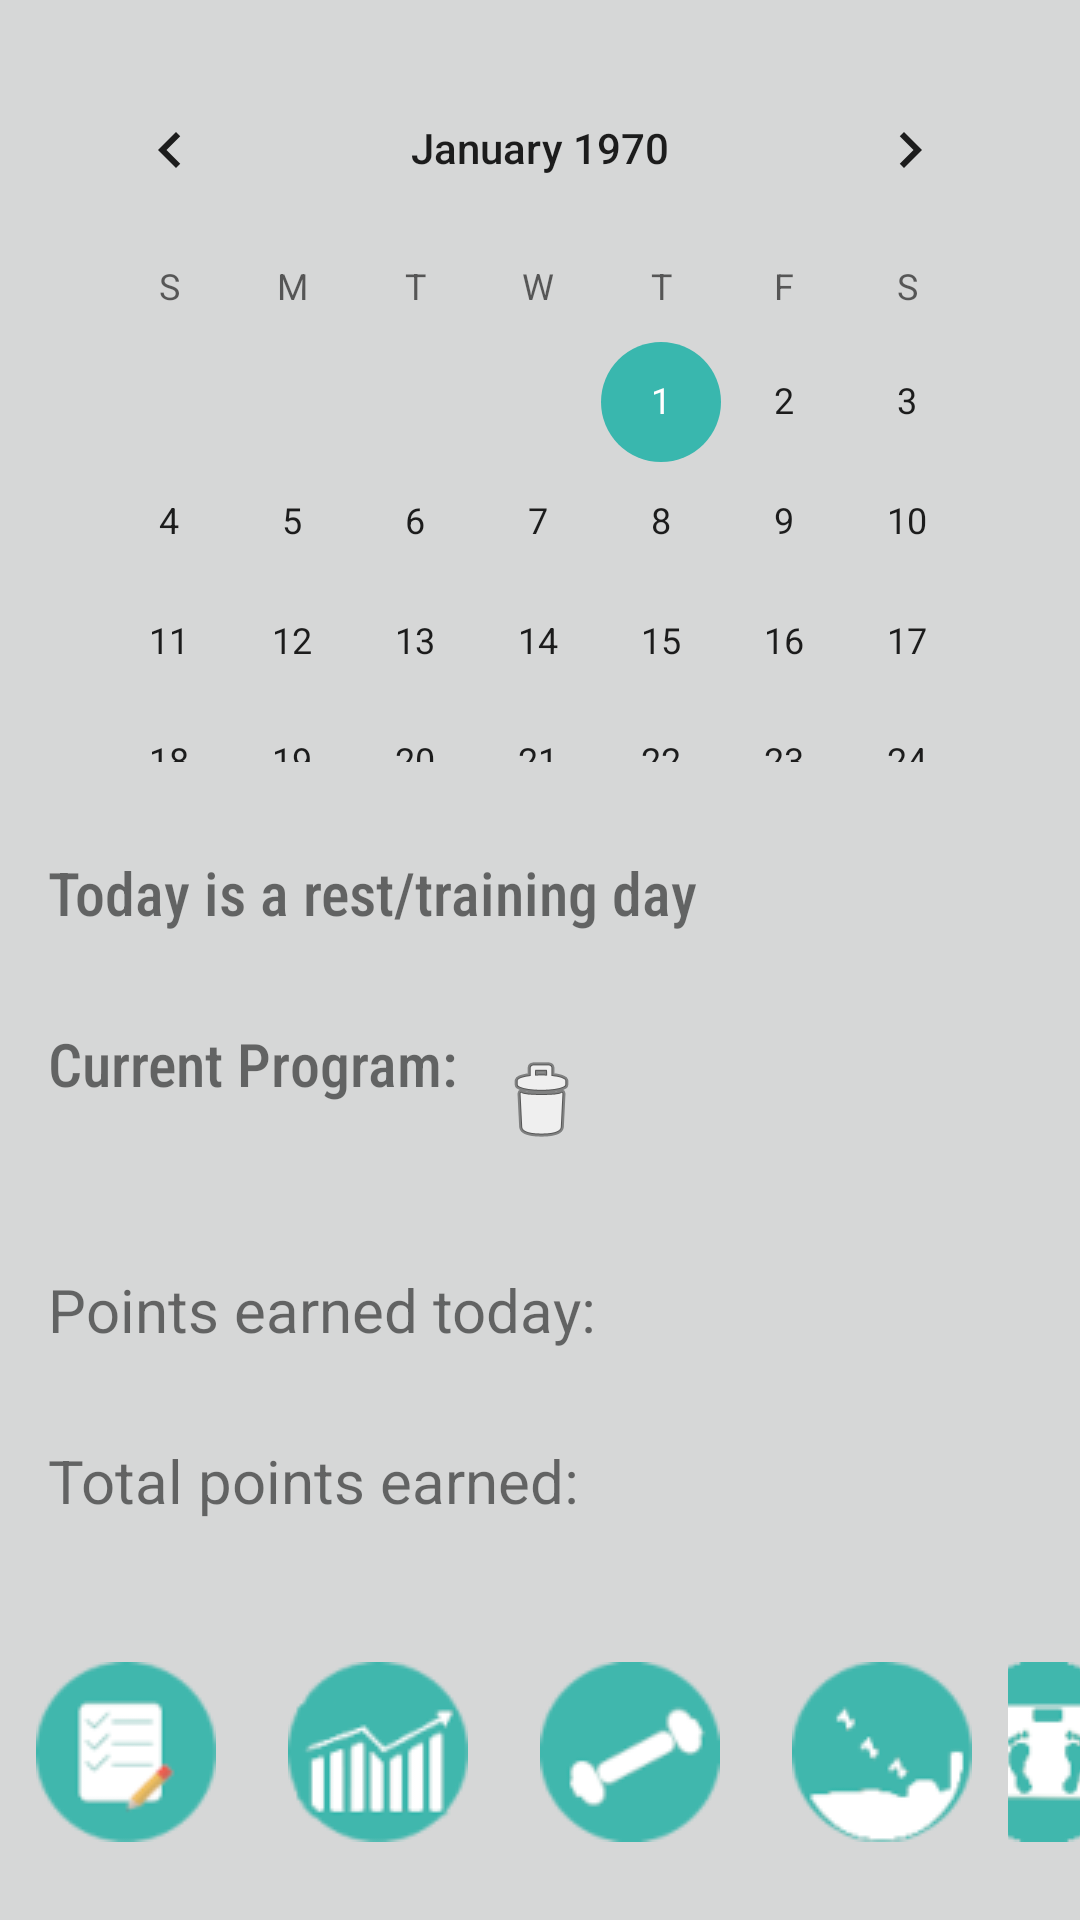

Screen size 1080x1920. Icon name, then its box in pixels as [x1, y1, x2, y2]:
delete: [514, 1062, 569, 1137]
imgbutton plan: [36, 1662, 216, 1842]
imgbutton progress: [288, 1662, 468, 1842]
imgbutton sleep: [792, 1662, 972, 1842]
imgbutton weight: [1008, 1662, 1080, 1842]
imgbutton workout: [540, 1662, 720, 1842]
